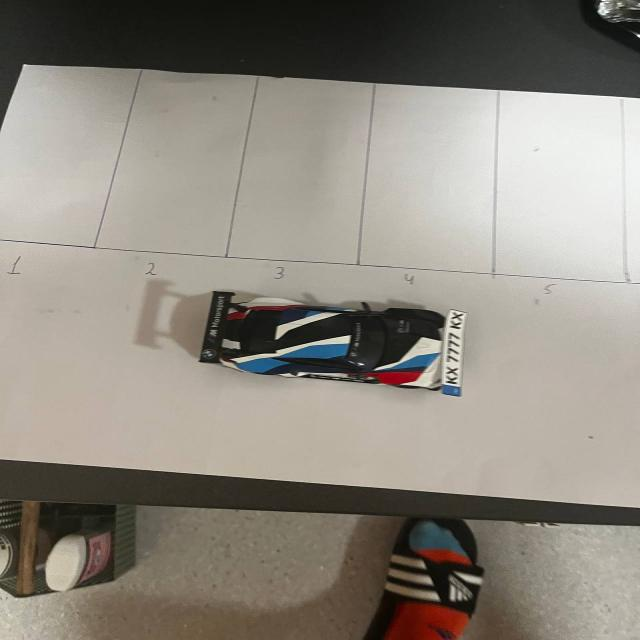KX 7777 KX: (437, 308, 469, 398)
